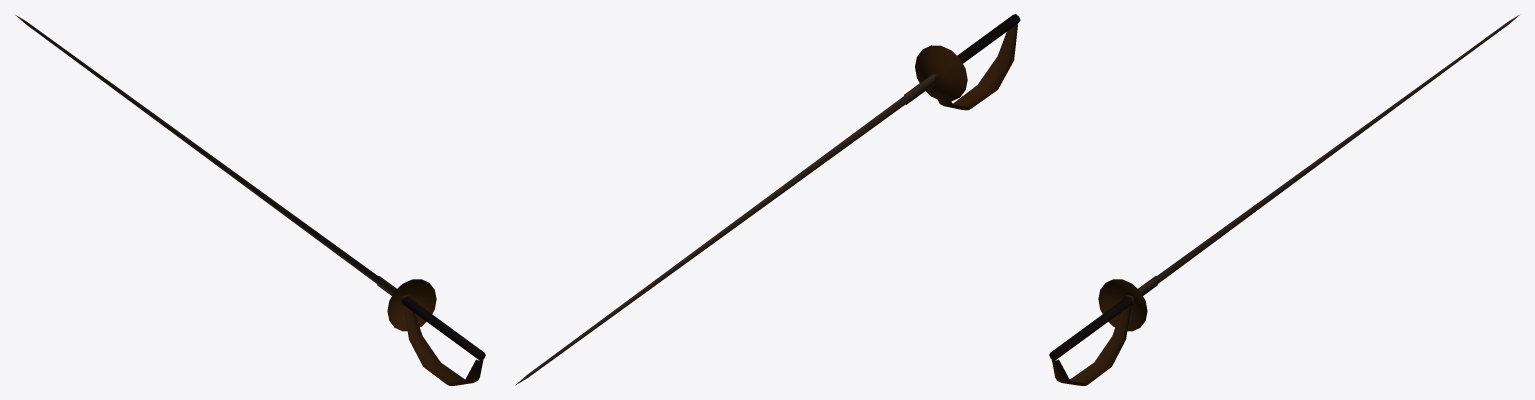
The model's file is sword.fbx.
3 renders of one model, left to right at view 1: azimuth 30°, elevation 25°; view 2: azimuth 150°, elevation 25°; view 3: azimuth 330°, elevation 25°, orthographic. The views are drawn at different scales.
Parts seen in each view (by area): view 1: Sword; view 2: Sword; view 3: Sword.
Boxes of the visible parts, x1=… form: Sword: x1=15, y1=15, x2=485, y2=385; Sword: x1=515, y1=14, x2=1020, y2=385; Sword: x1=1049, y1=15, x2=1519, y2=385.
Bounding box in the file's own units: 6.08 × 8.8 × 100.
